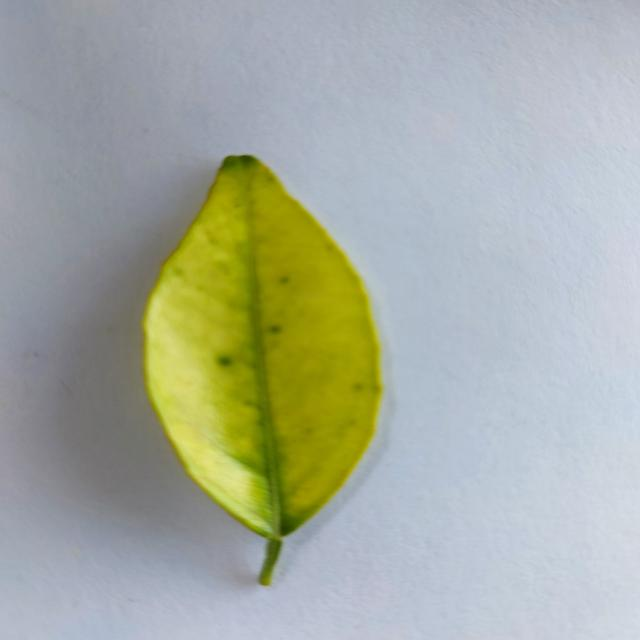greening: (144, 155, 381, 585)
